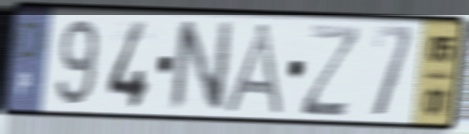4: (104, 16, 151, 112)
7: (371, 21, 414, 123)
9: (52, 16, 103, 108)
A: (220, 20, 289, 117)
N: (167, 17, 237, 115)
Z: (298, 22, 365, 120)
